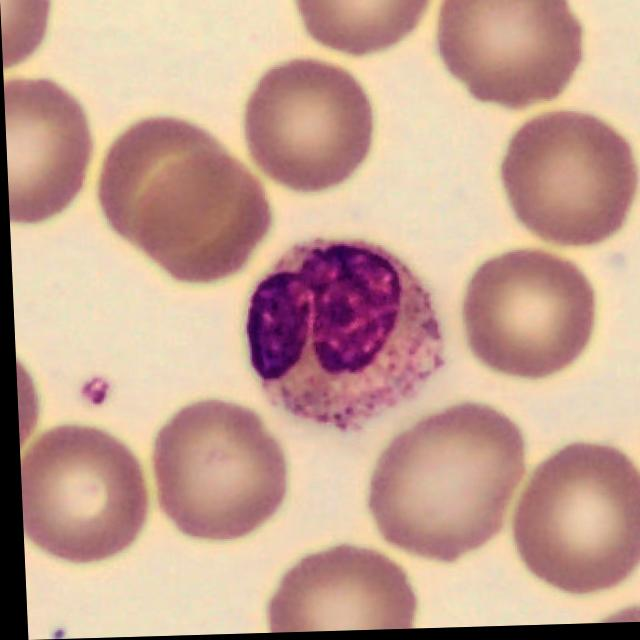Bastonete: (247, 243, 437, 429)
